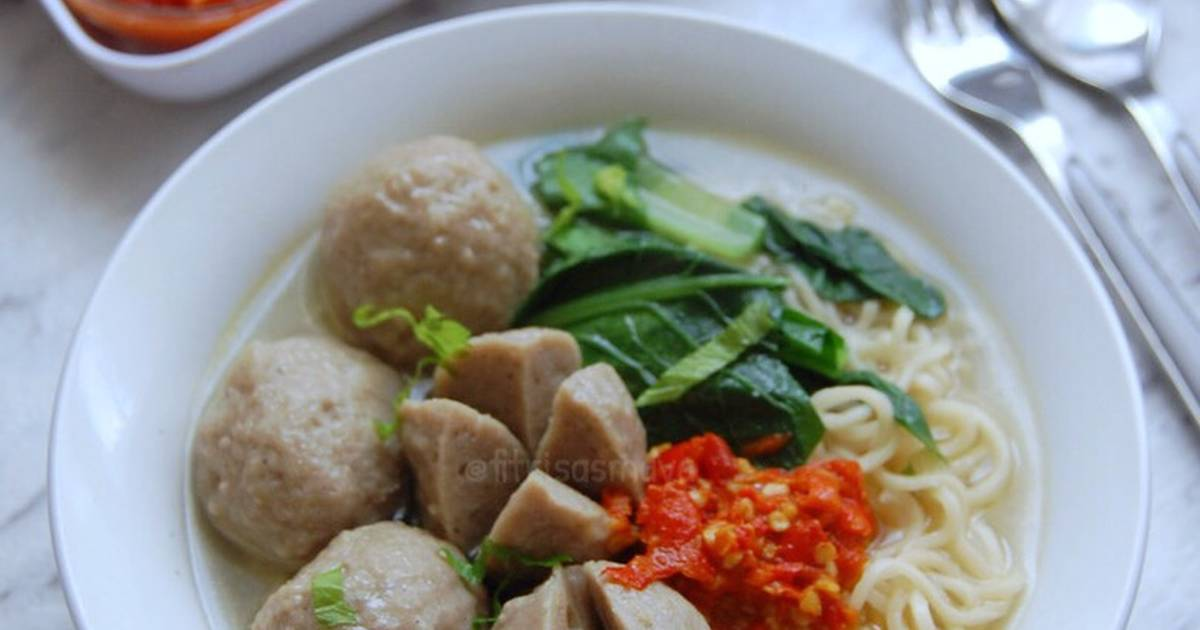bakso: (158, 58, 998, 630)
